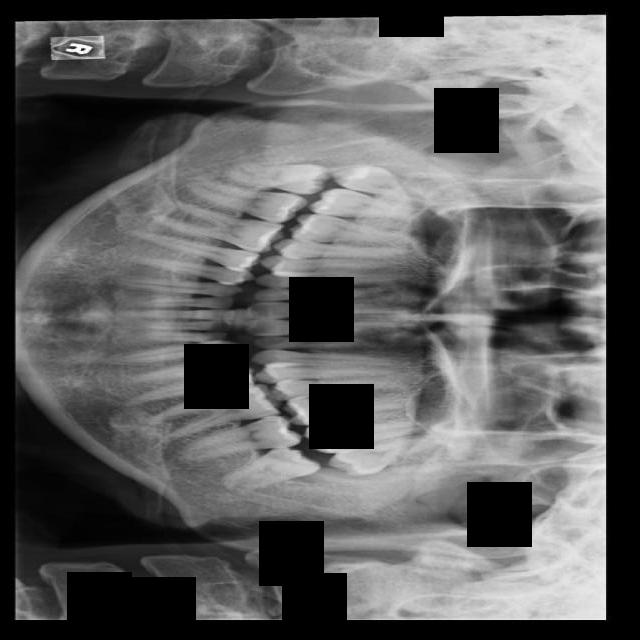3M ESPE Implant: (327, 158, 462, 211)
73: (93, 572, 113, 581)
BioHorizons Implant: (303, 416, 455, 455)
BioLife Implant: (326, 424, 481, 481)
Biomet 3i Implant: (216, 433, 323, 507)
Blue Sky Bio Implant: (176, 411, 304, 463)
Caries: (306, 185, 465, 229)
Implant: (184, 179, 309, 227)
Keystone Dental Implant: (226, 159, 329, 196)
